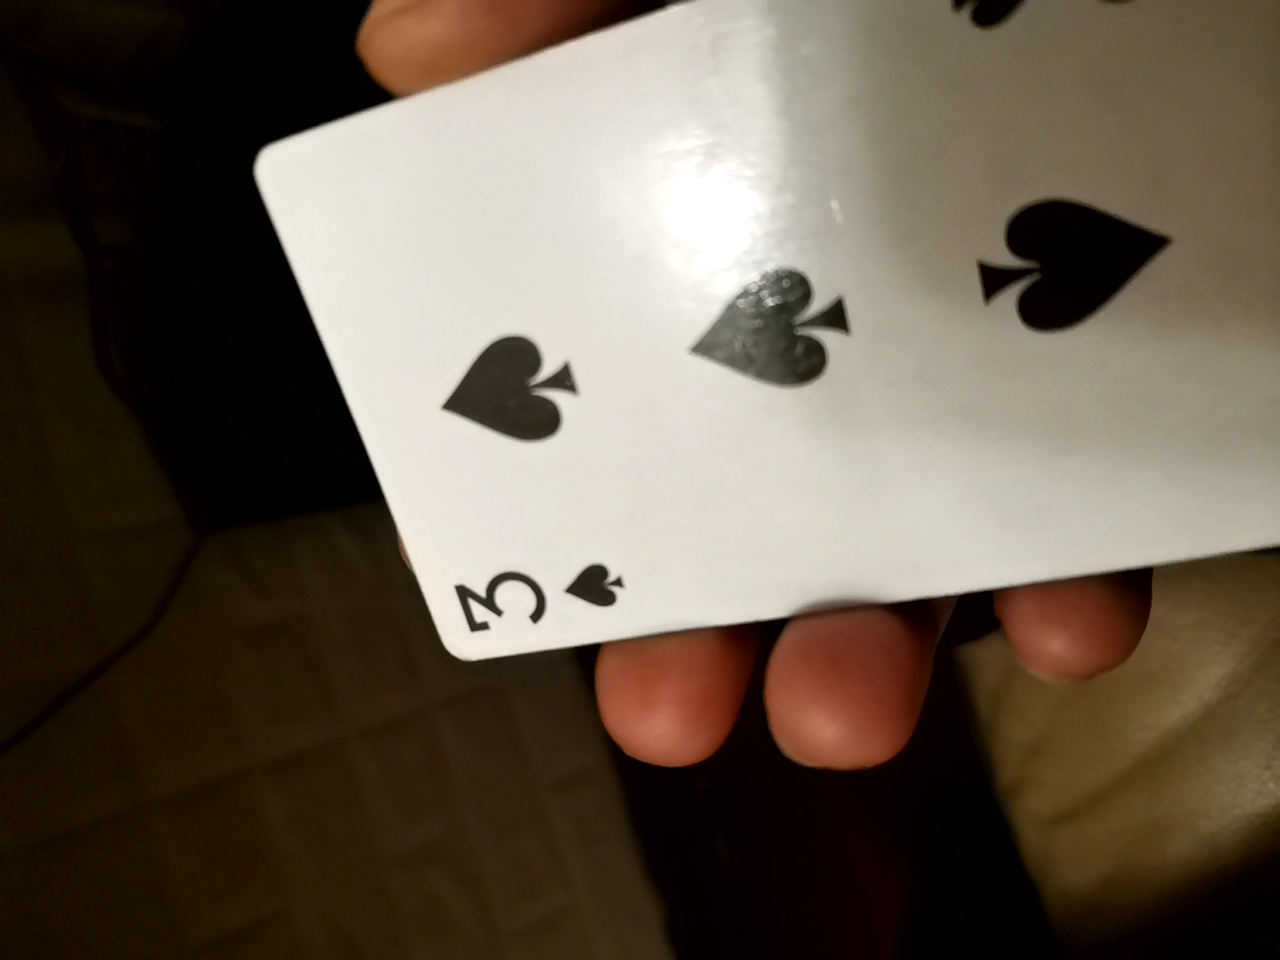ht 3: (229, 10, 1273, 690)
